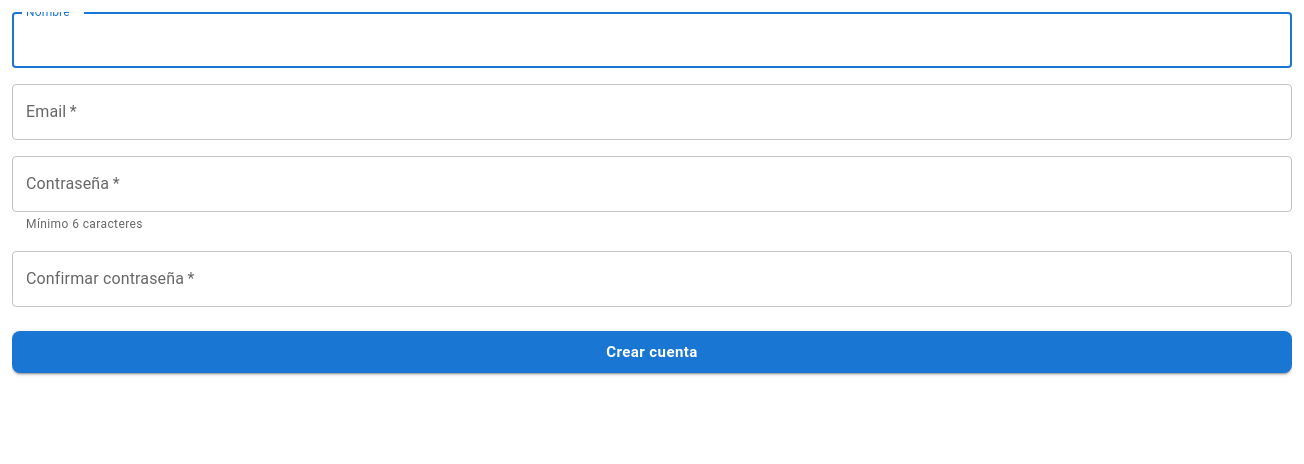
RegisterForm › shows error for invalid email
Type "Test User" into the field labelled "Nombre *". click: coordinates (652, 40)
box: [12,12,1292,68]
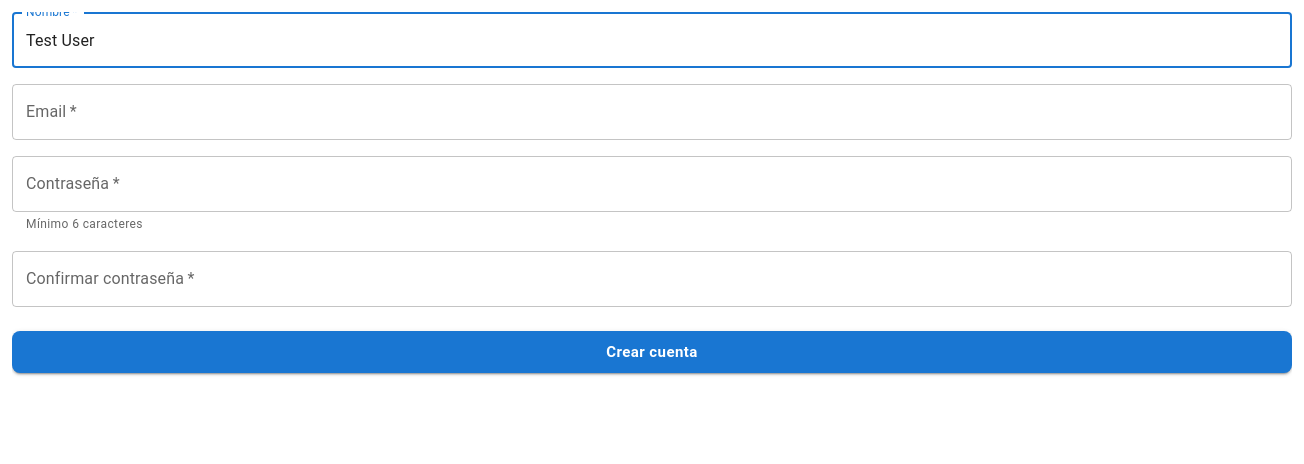
Type "invalid" into the field labelled "Email *". click: coordinates (652, 112)
box: [12,84,1292,140]
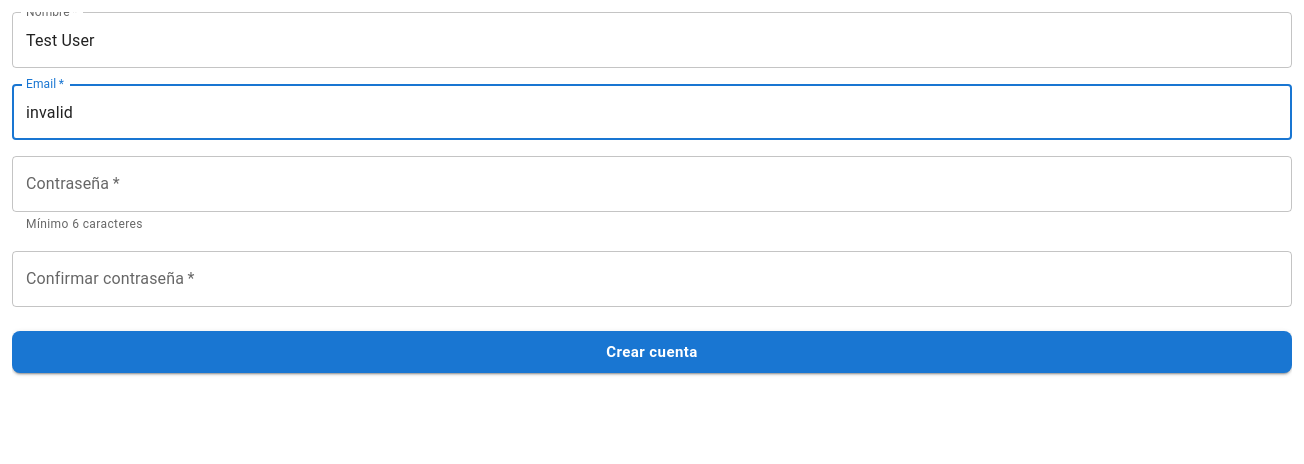
Type "123456" into the password field labelled "Contraseña *". click: coordinates (652, 184)
box: [12,156,1292,212]
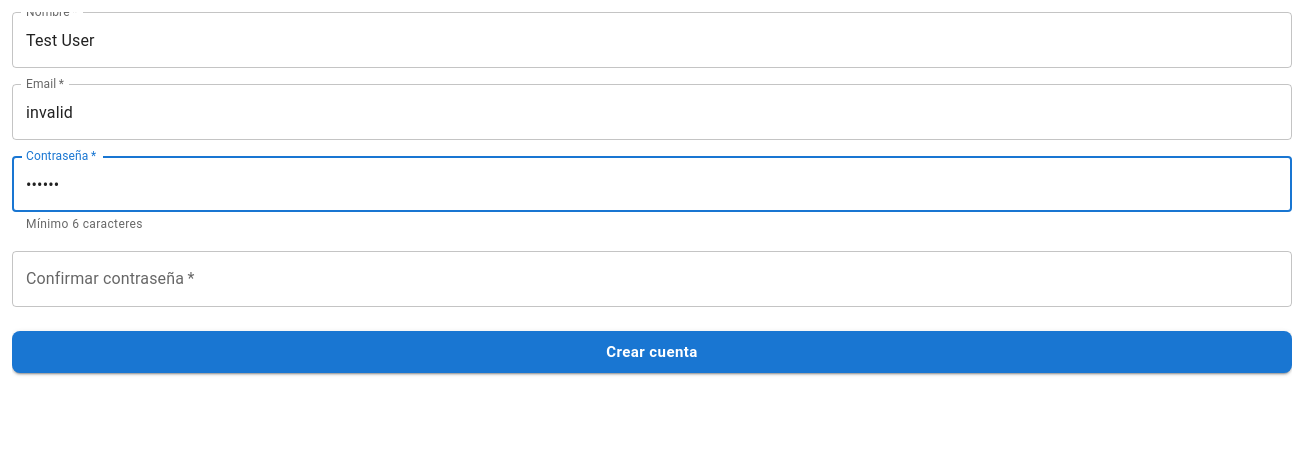
Type "123456" into the password field labelled "Confirmar contraseña *". click: coordinates (652, 279)
box: [12,251,1292,307]
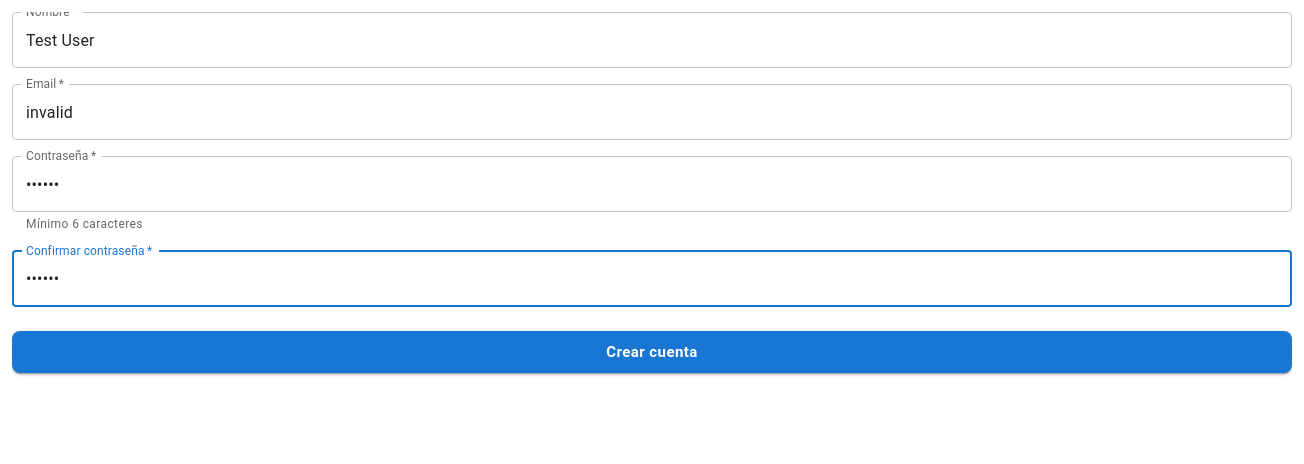
Click the button "Crear cuenta". click: coordinates (652, 352)
box: [12,331,1292,373]
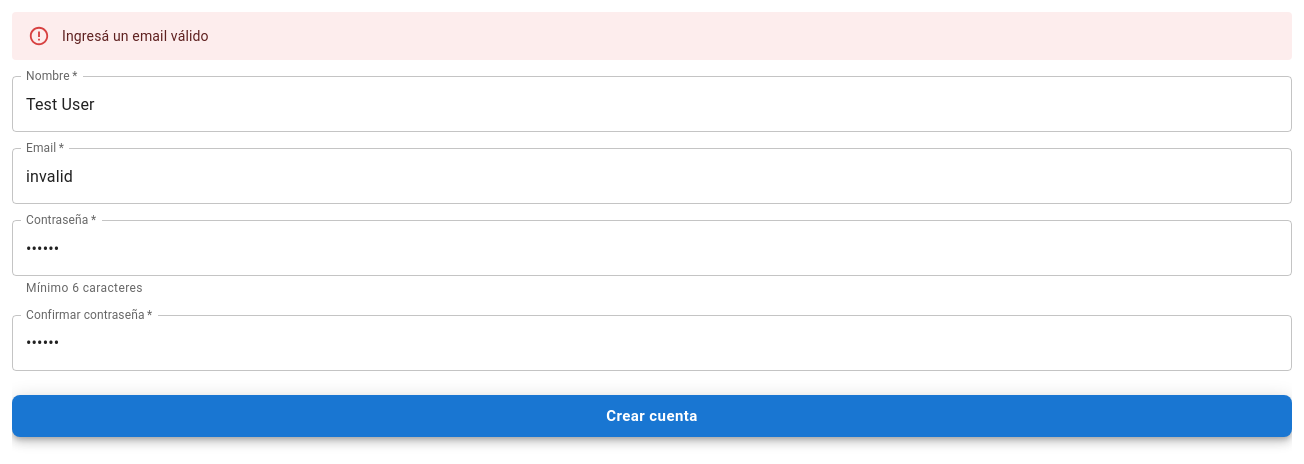
expect the text "Ingresá un email válido" is shown: met, box [62,28,209,44]
